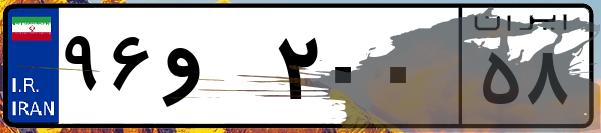0: (385, 28, 445, 110), (330, 28, 385, 110)
2: (270, 28, 330, 110)
5: (475, 38, 525, 113)
6: (110, 28, 158, 98)
8: (525, 38, 570, 115)
9: (57, 26, 110, 100)
و: (158, 20, 270, 120)
